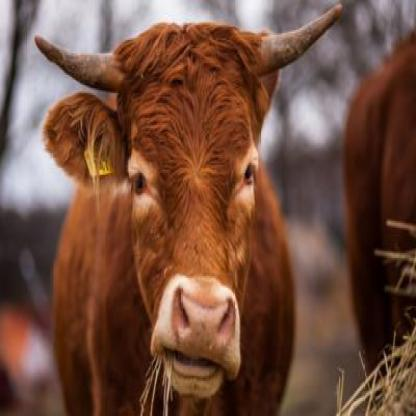lower: (187, 371, 210, 388)
mouth: (148, 274, 244, 396)
upper: (198, 318, 214, 333)
